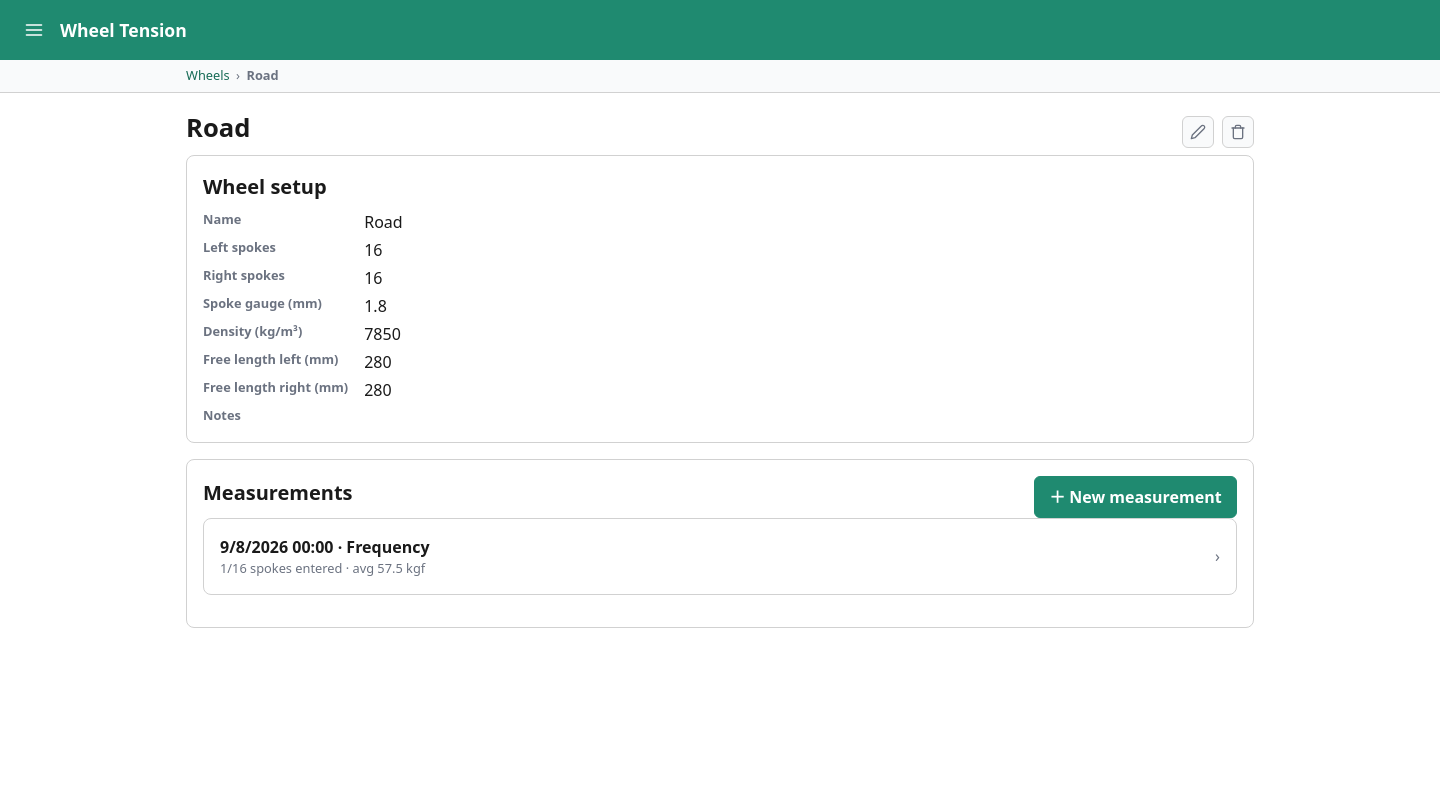
Test: WheelDetailPage › opens the edit page via the edit icon
The width and height of the screenshot is (1440, 810).
Click the button named "Edit wheel" at (1198, 132), box [1182, 116, 1214, 148]
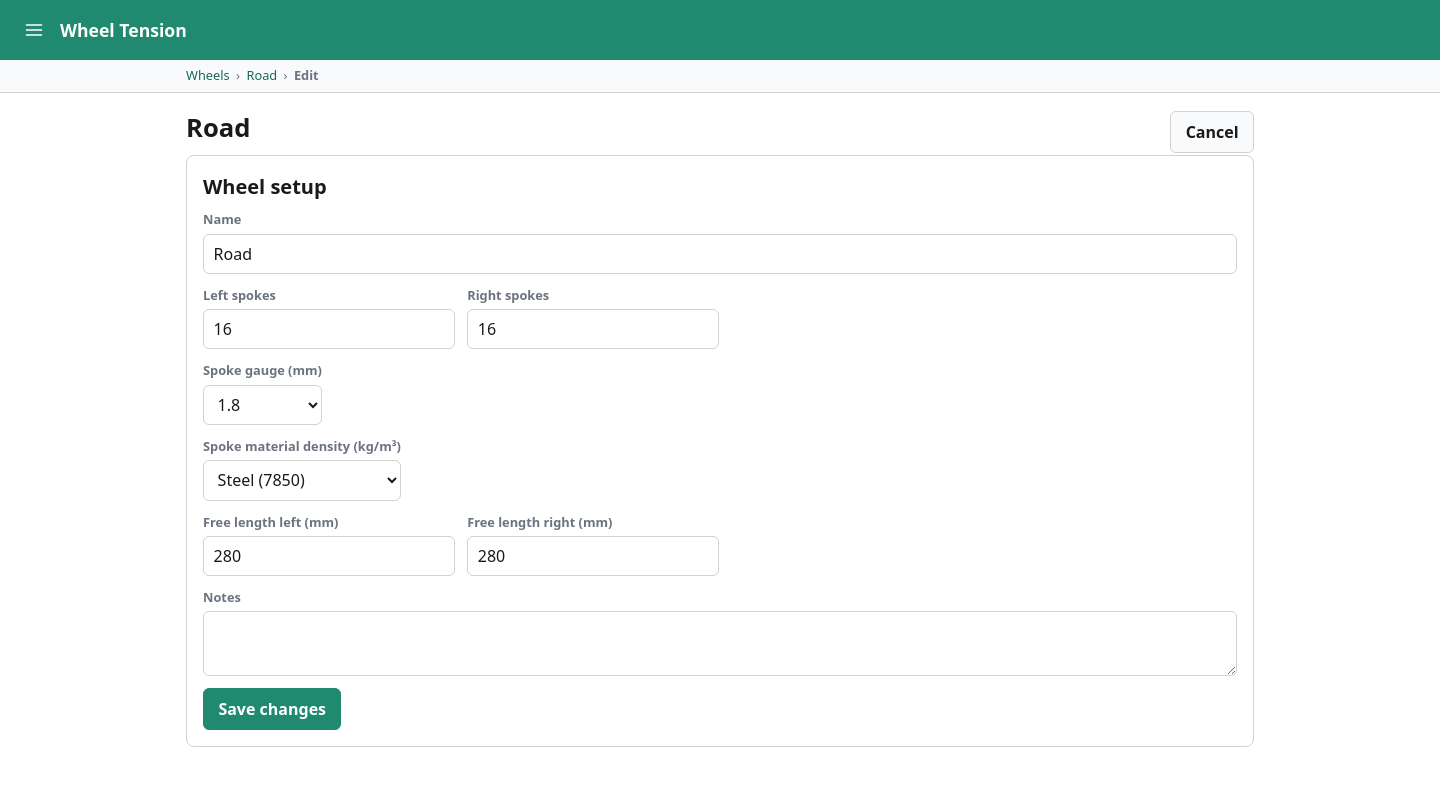
Now the field labelled "Name" holds "Road", box [203, 234, 1237, 274]
Now the button "Save changes" is disabled, box [203, 688, 341, 730]
